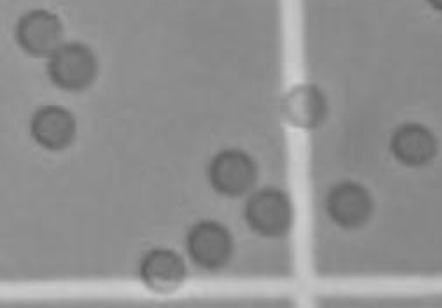cell: (44, 33, 105, 98), (319, 171, 380, 232), (22, 96, 81, 157), (240, 181, 298, 243), (204, 141, 261, 200), (272, 78, 333, 132), (11, 5, 68, 62), (134, 243, 190, 297), (386, 117, 438, 174), (184, 218, 235, 273)
